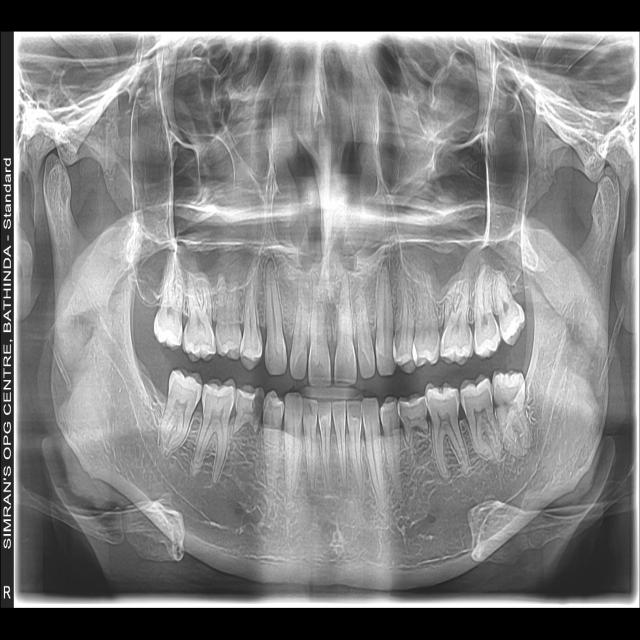Mandibular Canal: (96, 319, 263, 529), (422, 323, 580, 536)
Periapical lesion: (265, 258, 276, 278)
